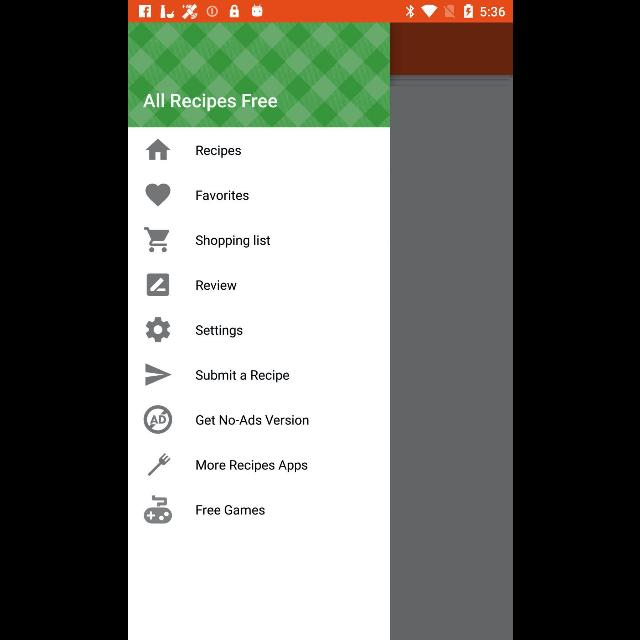icon: (144, 317, 170, 343), (143, 227, 169, 253), (145, 364, 171, 386), (144, 184, 170, 206), (144, 138, 170, 160), (146, 274, 168, 296)
image: (142, 406, 172, 434), (143, 496, 171, 524), (148, 452, 170, 476)
panel: (128, 23, 388, 639)
text: (142, 92, 278, 111), (195, 414, 308, 426), (195, 460, 307, 472), (195, 370, 289, 382), (194, 235, 270, 248), (196, 504, 264, 516), (195, 324, 242, 338), (195, 146, 241, 158), (196, 190, 248, 200), (196, 280, 237, 292)
uppertaskbar: (128, 1, 512, 23)
